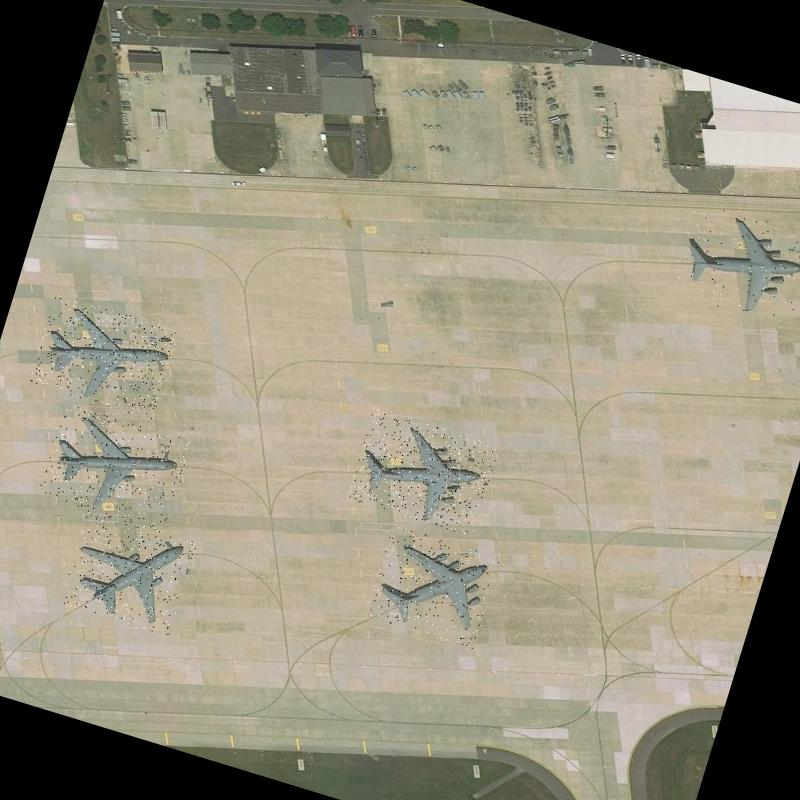A18: (37, 402, 193, 533), (28, 292, 180, 420), (60, 510, 198, 636)
A3: (346, 408, 500, 537), (668, 199, 800, 331), (366, 524, 503, 650)
